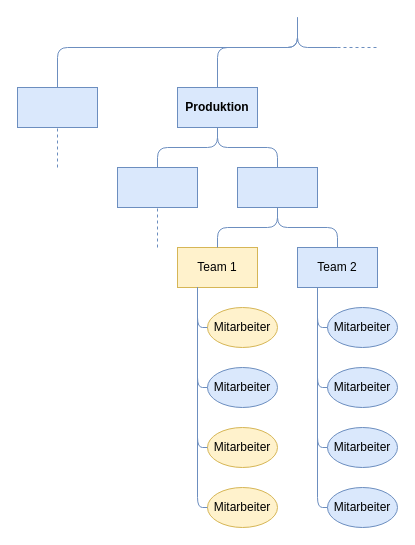
This 415x545 diagram has some shape labels left out. The shapes that lost their labels are listed below. From the top down, each one's centre as x and y in pixels, then its label:
the point at 57,107: R&D
the point at 157,187: Abteilung A
the point at 277,187: Abteilung B
